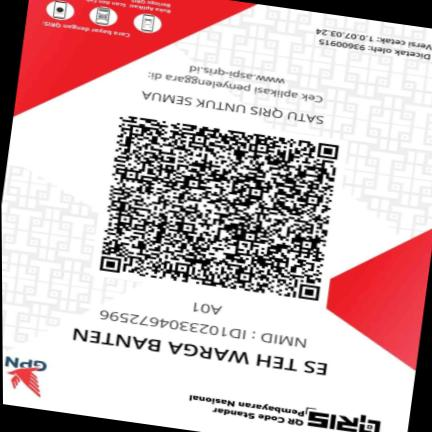Barcode_Asli: (85, 103, 349, 311)
